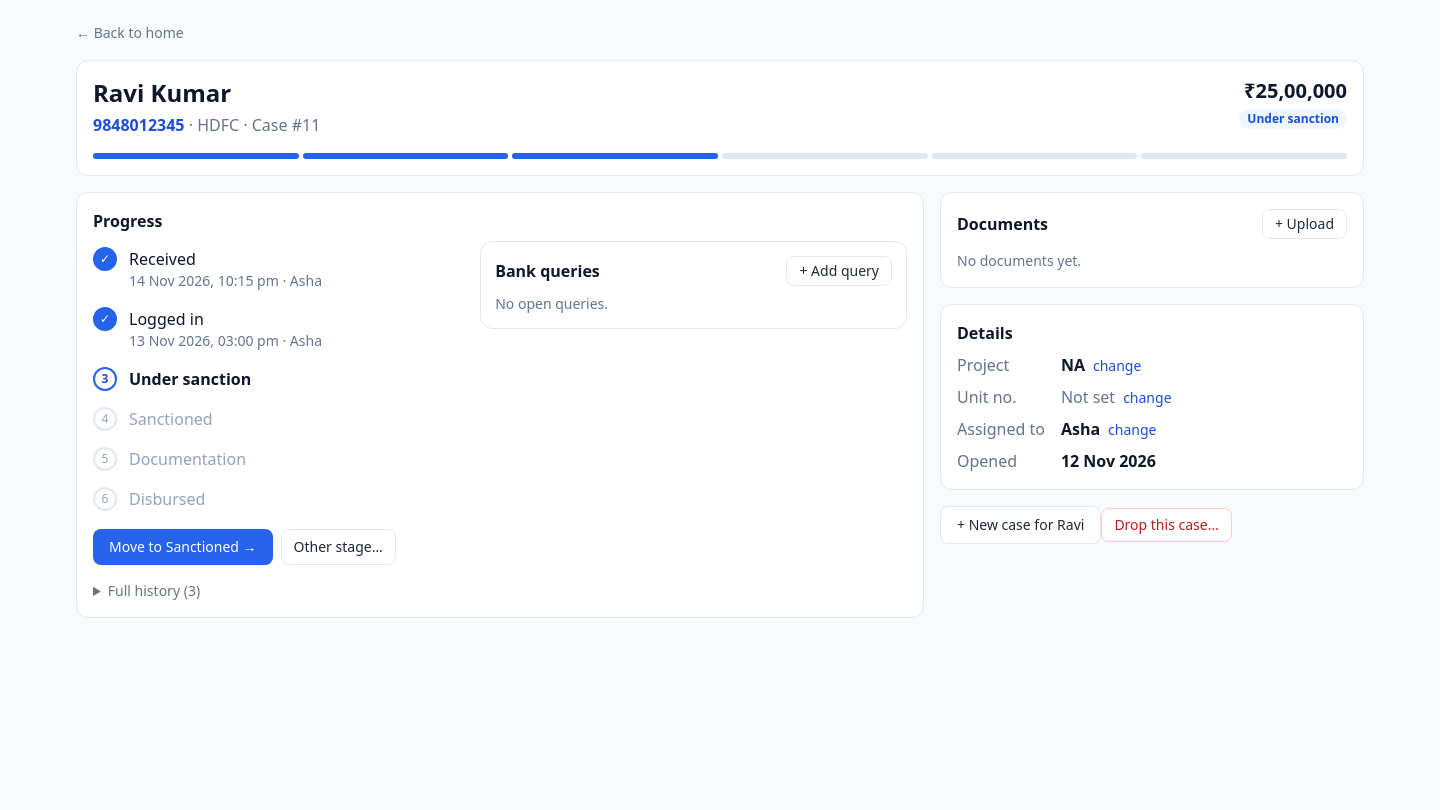
CaseDetail › sanction needs the sanctioned amount
Step 1. Click the button "Move to Sanctioned →" → (183,547), box [93,529,273,565]
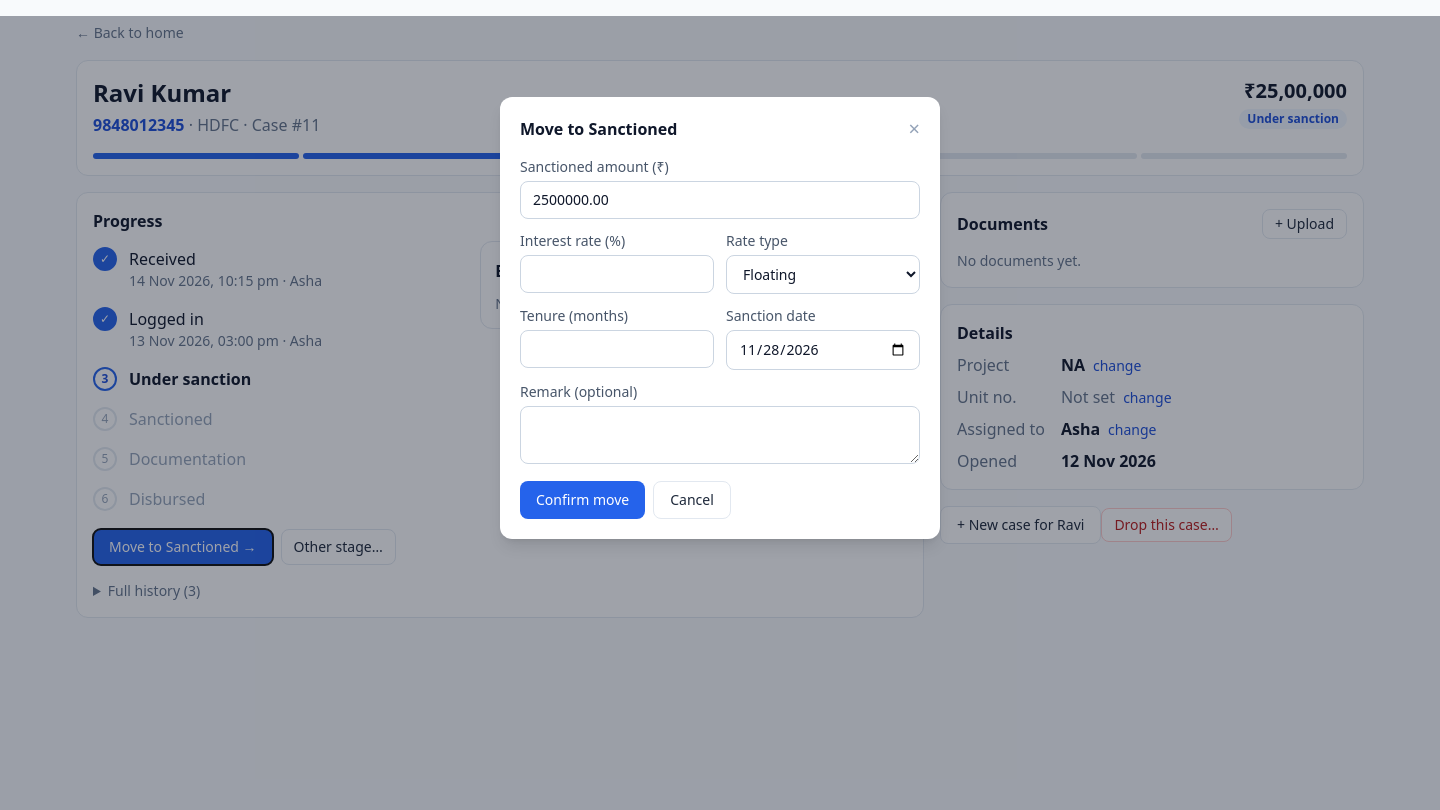
Step 2. Clear the field labelled "Sanctioned amount (₹)" → (720,200), box [520,181,920,219]
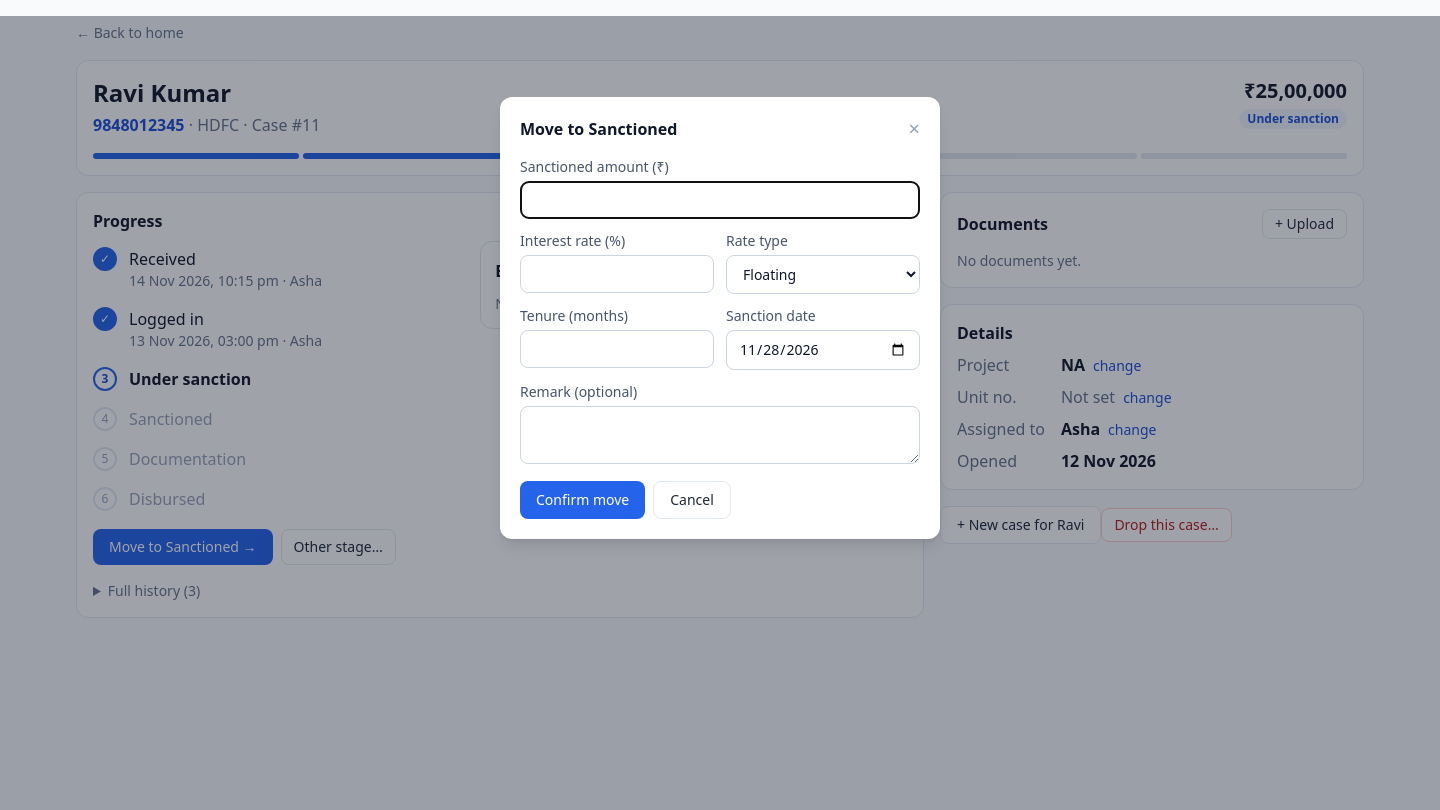
Step 3. Type "8.5" into the field labelled "Interest rate (%)" → (617,274), box [520,255,714,293]
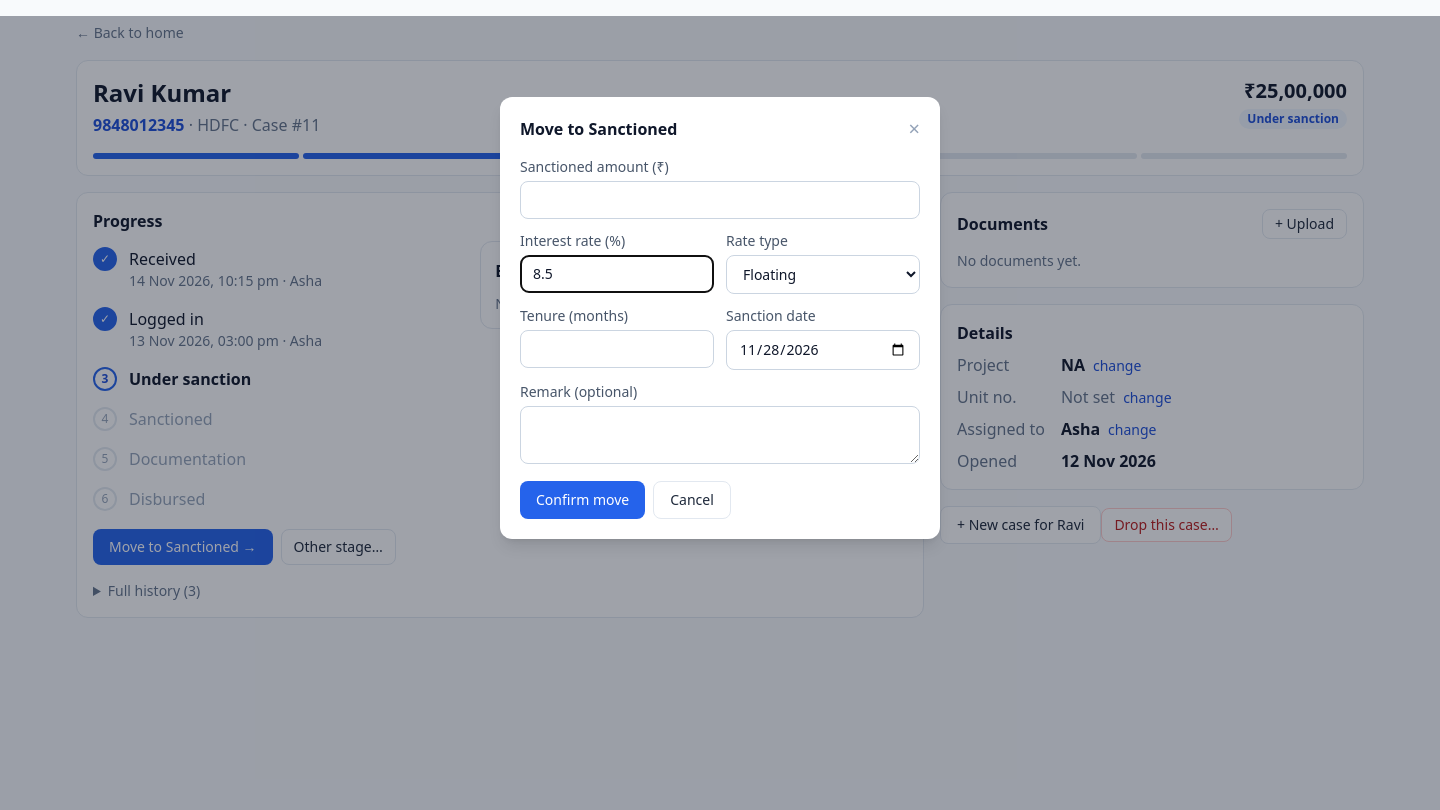
Step 4. Click the button "Confirm move" → (583,500), box [520,481,645,519]
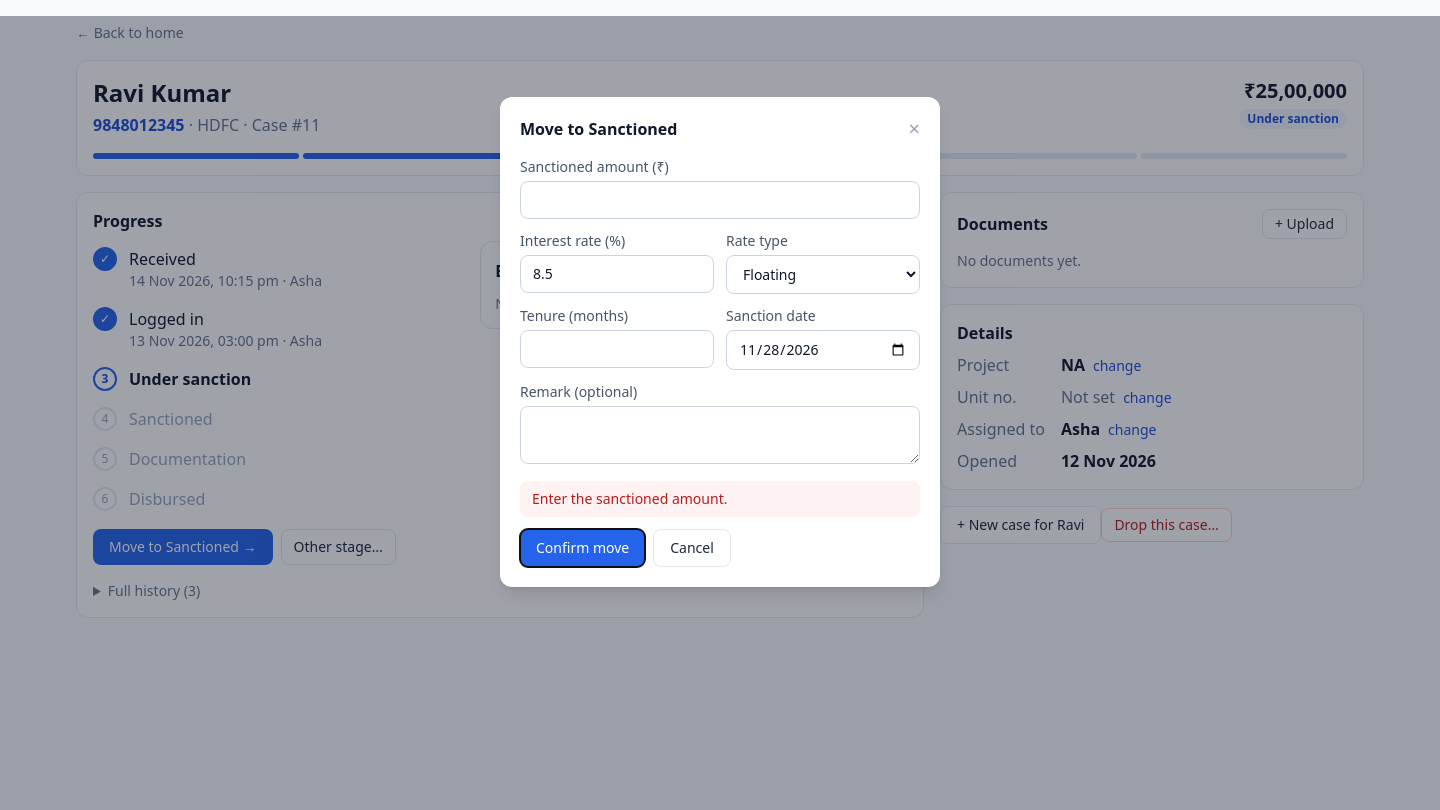
Expected: the message reads "Enter the sanctioned amount.", [532,489,728,508]
